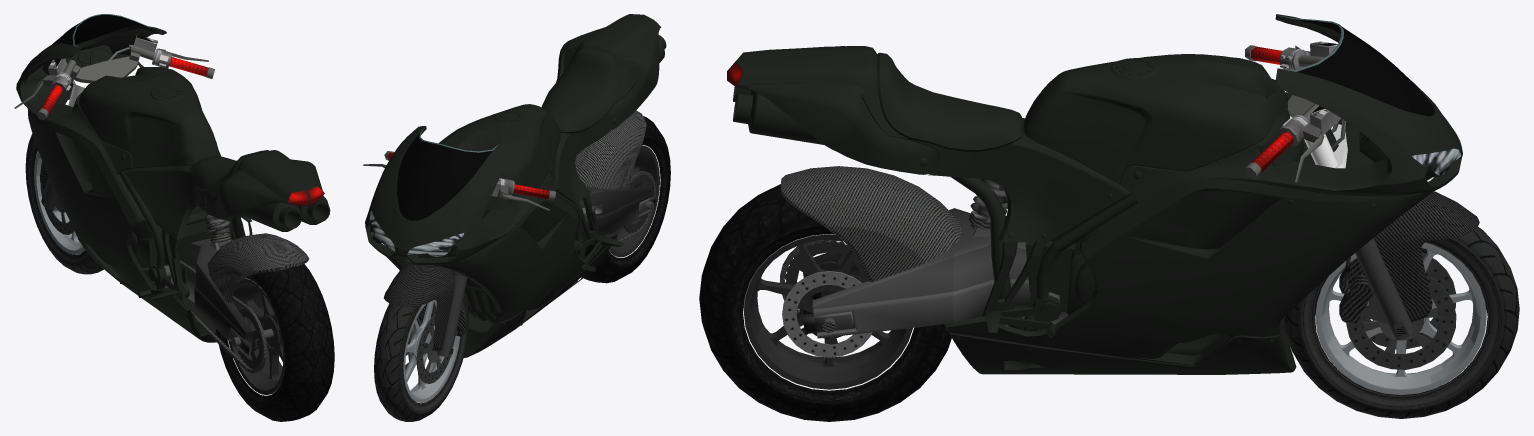
File: size-1-bikes-3.glb
The picture shows the model from 3 angles, left to right: view 1: azimuth 30°, elevation 25°; view 2: azimuth 150°, elevation 25°; view 3: azimuth 270°, elevation 25°; orthographic projection. The views are drawn at different scales.
Parts seen in each view (by area): view 1: cm_bodyshell, wheelmeshbk_r_1, cm_swingarm, cm_handlebars, wheelmeshbk_f_1, cm_windscreen, cm_forks_l, cm_forks_u; view 2: cm_bodyshell, wheelmeshbk_f_1, cm_swingarm, cm_windscreen, wheelmeshbk_r_1, cm_forks_l, cm_handlebars, cm_headlight_l; view 3: cm_bodyshell, wheelmeshbk_r_1, cm_swingarm, wheelmeshbk_f_1, cm_forks_l, cm_windscreen, cm_handlebars, cm_forks_u.
Boxes of the visible parts, x1,y1,x2,y2 form: cm_bodyshell: [16, 25, 330, 342]; wheelmeshbk_r_1: [215, 264, 334, 421]; cm_swingarm: [164, 211, 309, 373]; cm_handlebars: [14, 34, 324, 205]; wheelmeshbk_f_1: [25, 133, 103, 274]; cm_windscreen: [52, 14, 155, 47]; cm_forks_l: [40, 161, 60, 209]; cm_forks_u: [65, 65, 139, 106]; cm_bodyshell: [365, 14, 666, 358]; wheelmeshbk_f_1: [374, 293, 468, 421]; cm_swingarm: [575, 110, 655, 249]; cm_windscreen: [397, 126, 498, 220]; wheelmeshbk_r_1: [581, 116, 670, 283]; cm_forks_l: [384, 257, 467, 357]; cm_handlebars: [363, 151, 555, 210]; cm_headlight_l: [369, 210, 464, 256]; cm_bodyshell: [727, 14, 1462, 374]; wheelmeshbk_r_1: [699, 184, 951, 421]; cm_swingarm: [780, 166, 1068, 338]; wheelmeshbk_f_1: [1283, 227, 1519, 418]; cm_forks_l: [1339, 191, 1479, 339]; cm_windscreen: [1277, 15, 1434, 116]; cm_handlebars: [727, 41, 1346, 182]; cm_forks_u: [1290, 115, 1347, 168].
Bounding box in the file's own units: 1.22 × 1.61 × 3.12.
9 materials, 7 textured.
